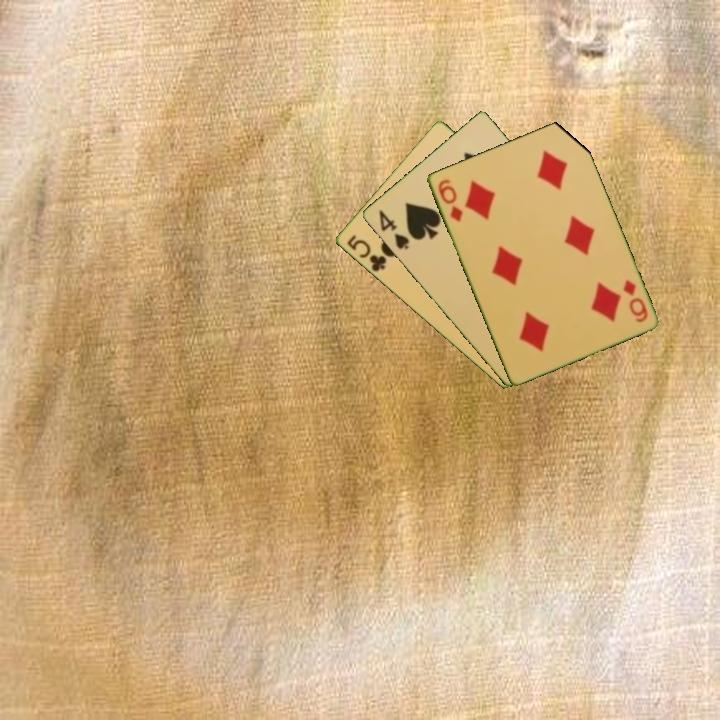4s: (375, 206, 412, 253)
5c: (343, 231, 389, 275)
6d: (434, 176, 465, 225), (619, 276, 650, 325)
